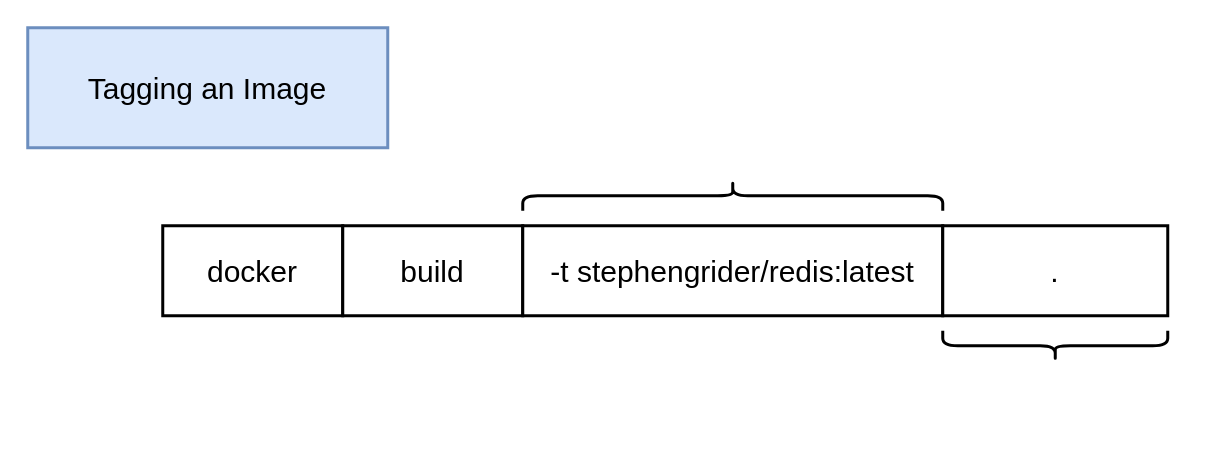
This 1214x461 diagram has some shape labels left out. Each missing label, with the centre of its shape:
"Specifies the directory of files/folders to use for the build" goes at (x=1054, y=345).
"Tags the image" goes at (x=732, y=195).
